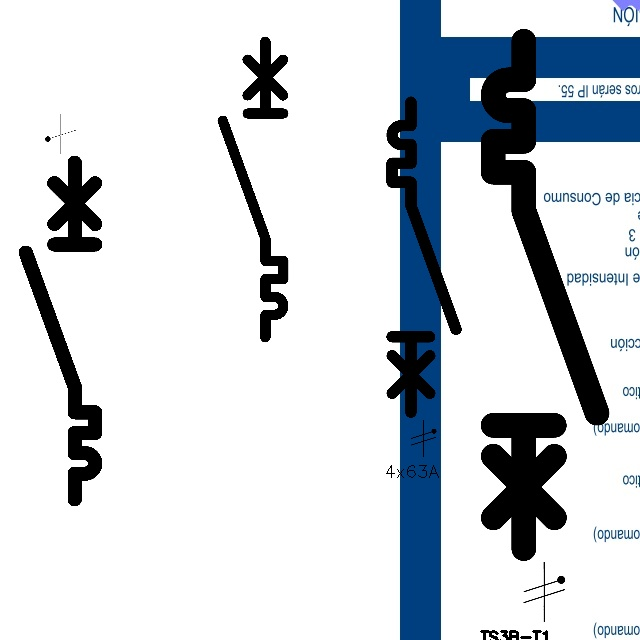interruptor_termomagnetico: (480, 28, 610, 561), (17, 154, 104, 508), (384, 94, 463, 420), (215, 34, 291, 345)
